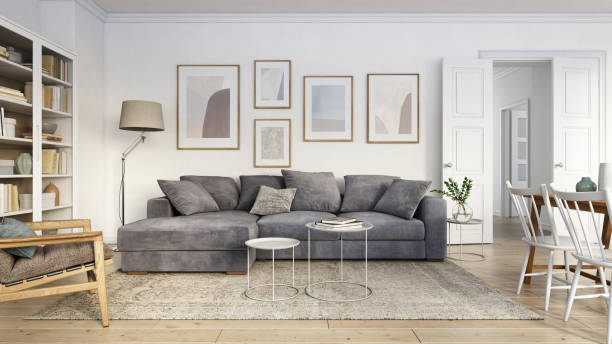chair: (0, 214, 110, 329)
dining table set: (502, 163, 612, 344)
floor lamp: (114, 97, 167, 225)
side table: (447, 217, 486, 262)
small plant: (433, 176, 475, 222)
sofa: (115, 168, 450, 275)
table: (304, 219, 374, 304), (242, 235, 302, 303)
wall art: (174, 61, 242, 152), (364, 71, 421, 145), (301, 74, 354, 143), (251, 57, 292, 109), (252, 116, 292, 169)
